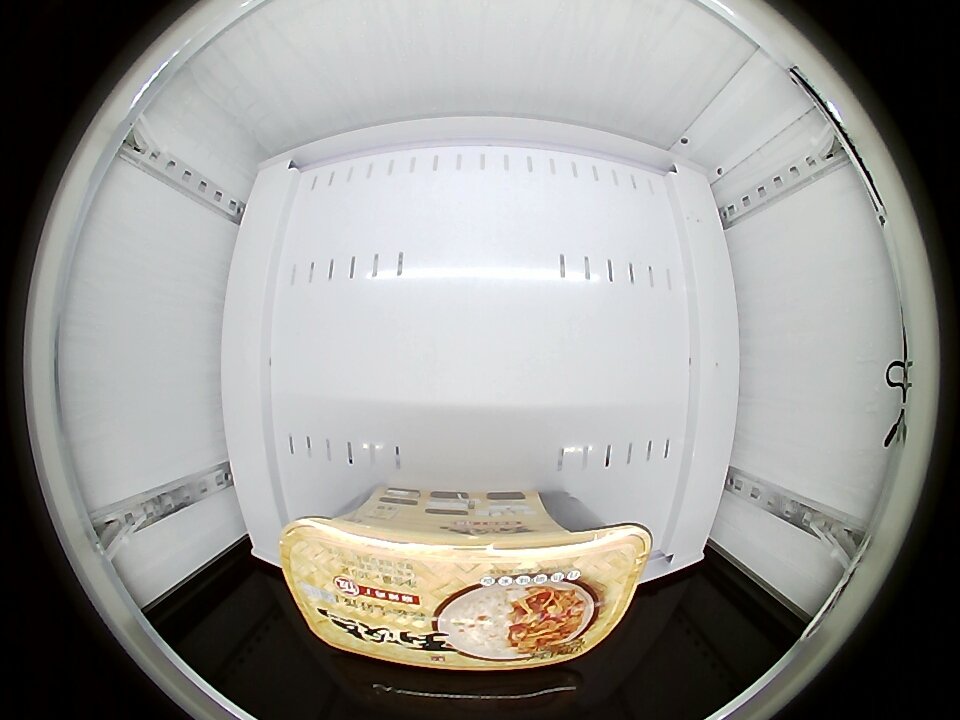daofandian4: (279, 493, 649, 670)
